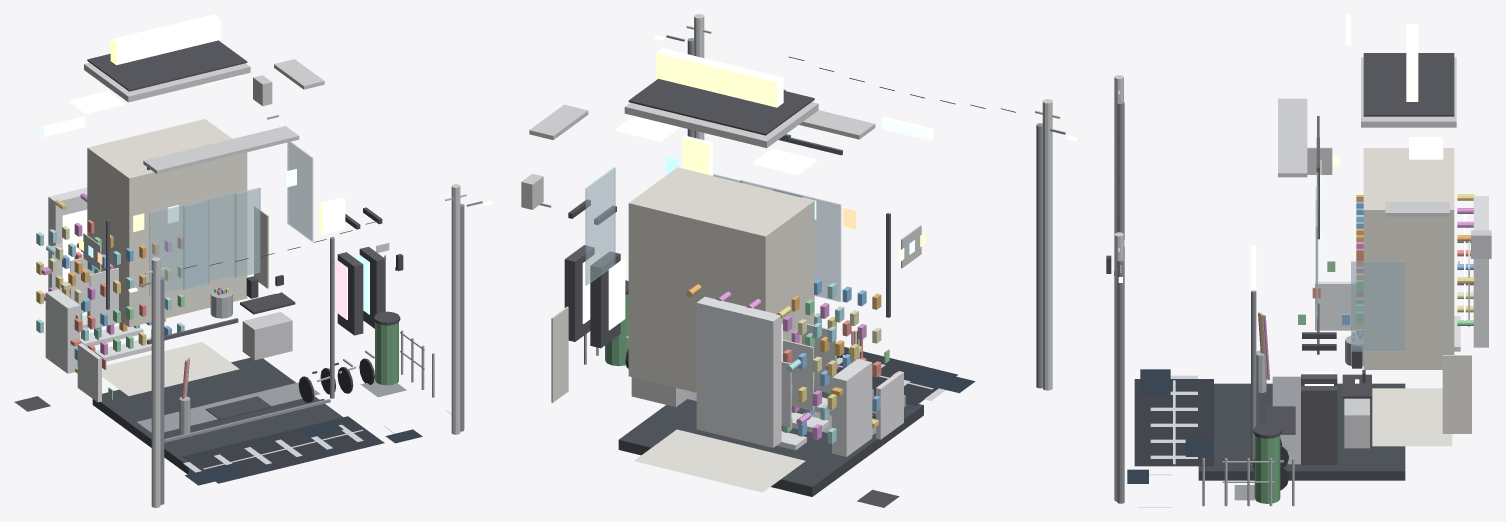
Rendered from konbini.gltf.
3 renders of one model, left to right at view 1: azimuth 30°, elevation 25°; view 2: azimuth 150°, elevation 25°; view 3: azimuth 270°, elevation 25°, orthographic. The views are drawn at different scales.
Visible parts, largest first — view 1: Body, Base, GlassFront, Road, RoofTop, FloorIn, MAT_SignGlow, AwningF, Pole1, Pole0, BentoCase, OBJ_DoorR (+28 smaller); view 2: Body, DrinkCase, Base, FloorIn, RoofTop, MAT_SignGlow, BentoCase, GlassSide, Pole0, GlassFront, RoofBand, MAT_VendA (+20 smaller); view 3: Body, Base, Road, RoofTop, GlassSide, FloorIn, MAT_VendB, AwningF, BackDoor, DrinkCase, LampPole1, MagRack (+17 smaller).
Part boxes in pixels (box(x1,y1,x2,y2)): Body: box(87, 119, 247, 327); Base: box(92, 357, 342, 474); GlassFront: box(149, 192, 236, 296); Road: box(182, 416, 384, 483); RoofTop: box(87, 40, 247, 91); FloorIn: box(102, 342, 239, 395); MAT_SignGlow: box(110, 14, 220, 65); AwningF: box(143, 126, 299, 174); Pole1: box(451, 184, 460, 434); Pole0: box(151, 257, 160, 507); BentoCase: box(45, 289, 80, 373); OBJ_DoorR: box(234, 187, 260, 278); Body: box(628, 167, 814, 392); DrinkCase: box(696, 296, 781, 447); Base: box(618, 391, 923, 496); FloorIn: box(634, 429, 805, 492); RoofTop: box(628, 79, 814, 135); MAT_SignGlow: box(656, 48, 783, 107); BentoCase: box(832, 359, 872, 456); GlassSide: box(585, 167, 615, 285); Pole0: box(1042, 99, 1052, 390); GlassFront: box(739, 180, 841, 301); RoofBand: box(624, 102, 818, 148); MAT_VendA: box(590, 251, 620, 348); Body: box(1363, 148, 1454, 369); Base: box(1198, 383, 1405, 480); Road: box(1134, 379, 1213, 466); RoofTop: box(1363, 53, 1454, 116); GlassSide: box(1351, 261, 1404, 351); FloorIn: box(1372, 388, 1452, 446); MAT_VendB: box(1301, 386, 1337, 464); AwningF: box(1278, 98, 1307, 177); BackDoor: box(1442, 355, 1471, 433); DrinkCase: box(1473, 196, 1488, 347); LampPole1: box(1117, 258, 1124, 503); MagRack: box(1315, 281, 1355, 330).
Bounding box in the file's own units: 2.61 × 2.44 × 2.23.
